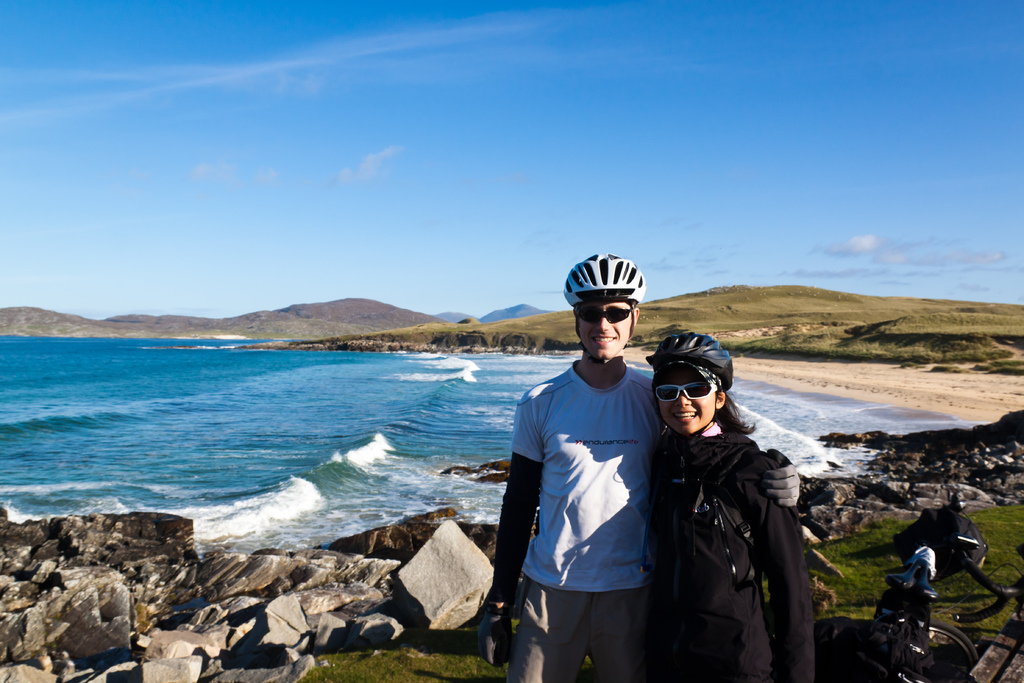bicycle: (852, 484, 1023, 682)
